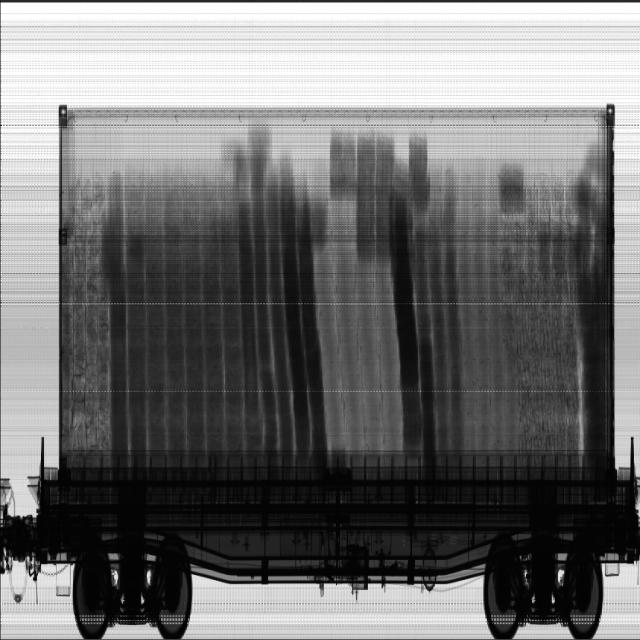shoes: (501, 173, 580, 449), (63, 174, 109, 450)
textiles: (106, 128, 507, 448)
